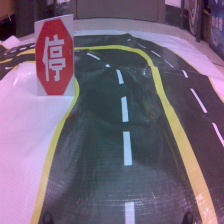stop: (34, 14, 78, 97)
